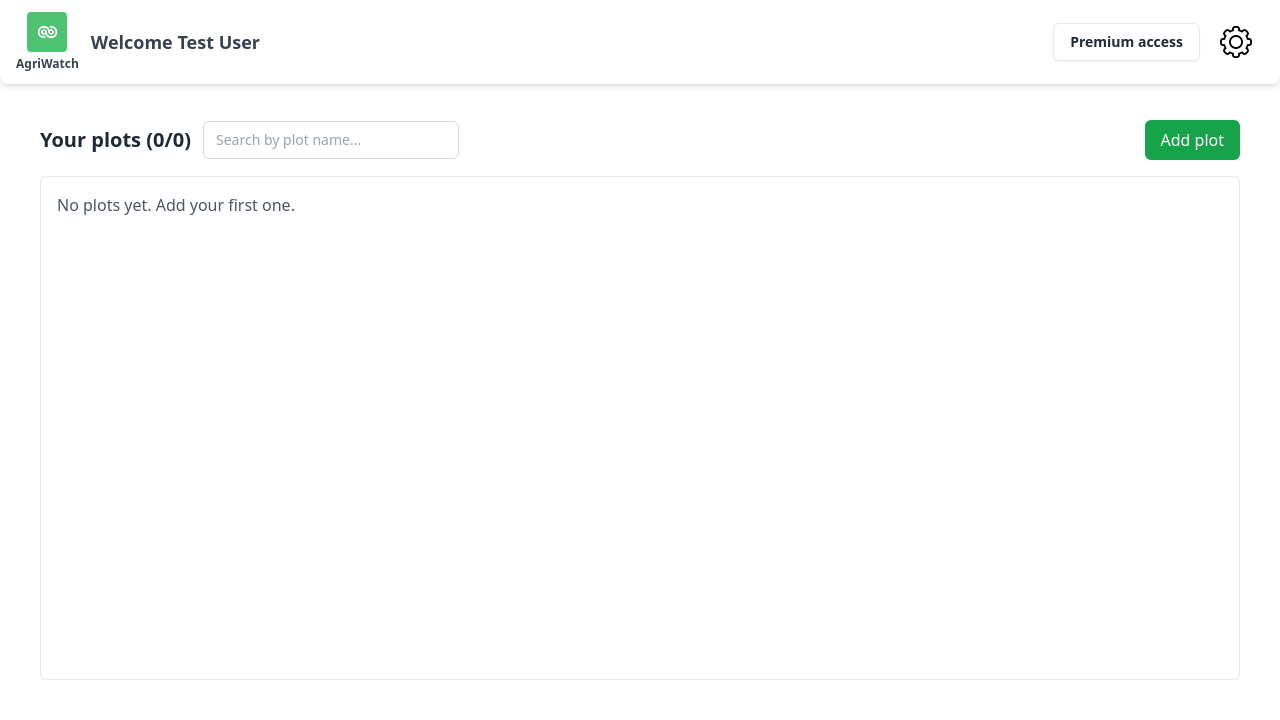
App premium access route › navigates to /premium-access from the header button and hides header after navigation
The width and height of the screenshot is (1280, 720).
Expected: the heading "Your plots (0/0)" is shown, [40,126,191,154]
Click the button "Premium access".
click(1127, 42)  # box [1053,23,1200,61]
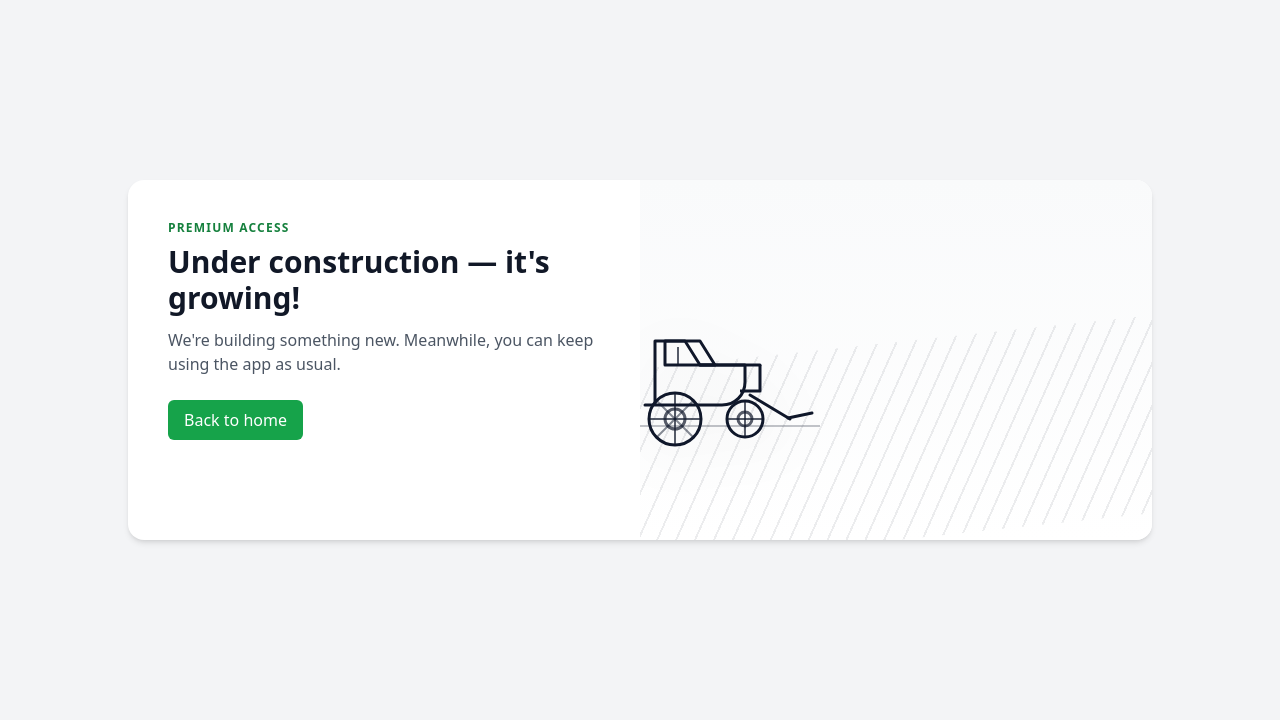
Now the heading "Under construction — it's growing!" is shown, box [168,244,600,316]
Now the text "Welcome" is gone
